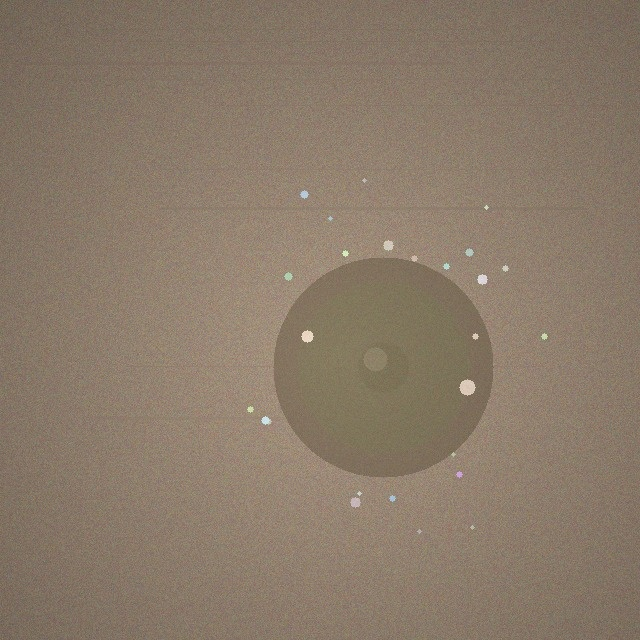overburn: (273, 257, 493, 477)
